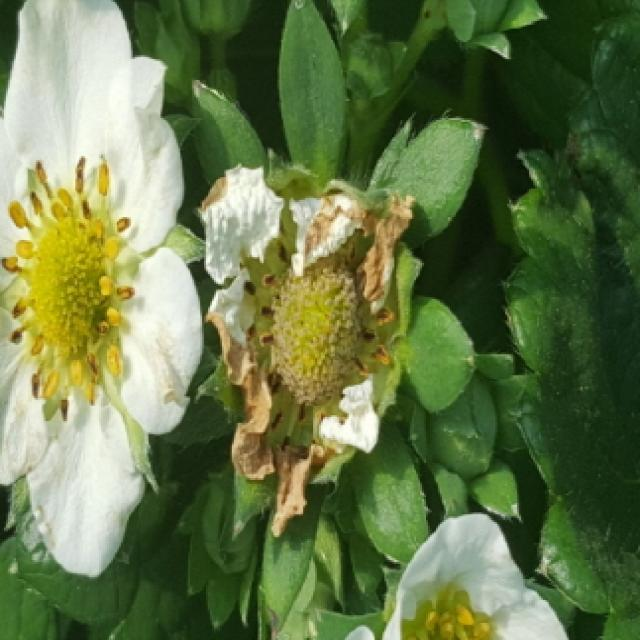Blossom Blight: (0, 150, 143, 427), (238, 218, 400, 462)
